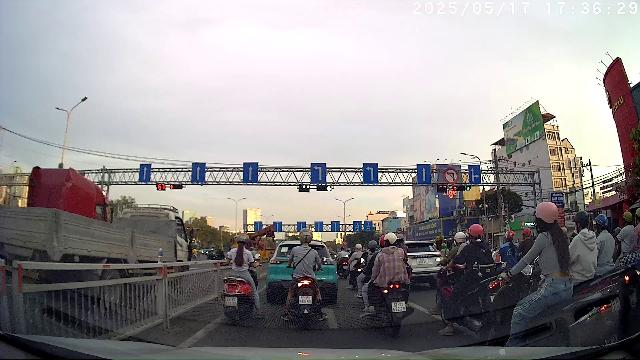123a-cam-re-trai: (443, 166, 458, 184)
